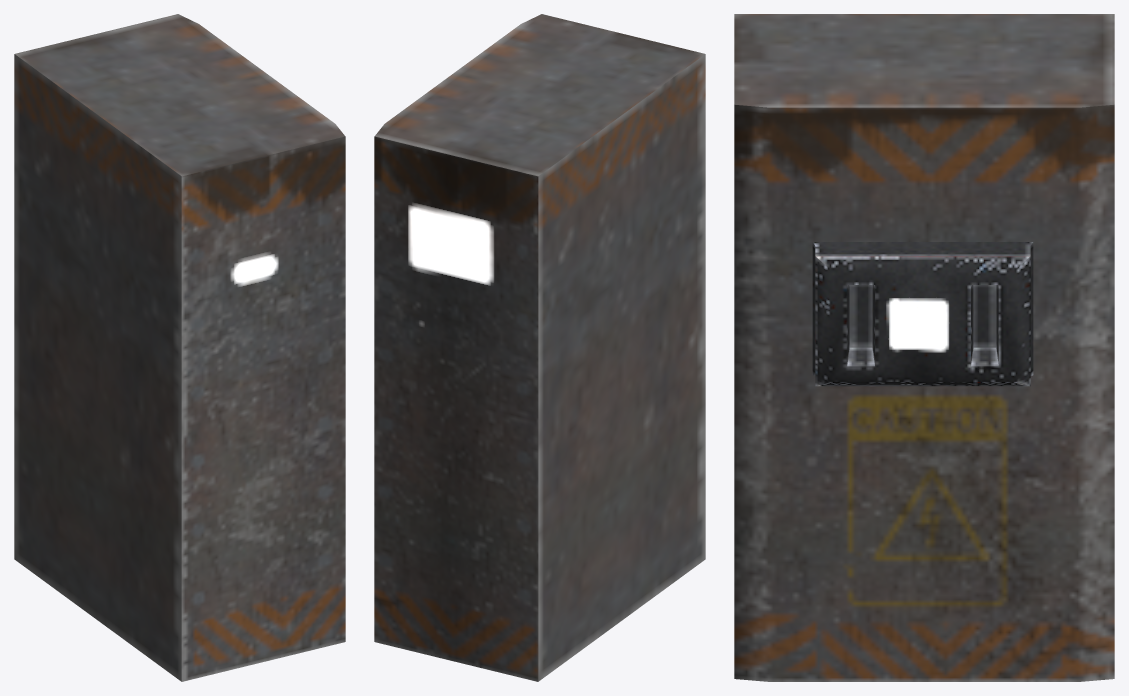
File: S_RackArm.fbx
The picture shows the model from 3 angles, left to right: view 1: azimuth 30°, elevation 25°; view 2: azimuth 150°, elevation 25°; view 3: azimuth 270°, elevation 25°; orthographic projection. The views are drawn at different scales.
Visible parts, largest first — view 1: S_RackArm; view 2: S_RackArm; view 3: S_RackArm.
Boxes of the visible parts, x1,y1,x2,y2 form: S_RackArm: [14, 14, 345, 681]; S_RackArm: [374, 14, 705, 681]; S_RackArm: [734, 14, 1114, 681].
Bounding box in the file's own units: 57.86 × 140 × 84.
Materials: 1 (1 with a texture image).
